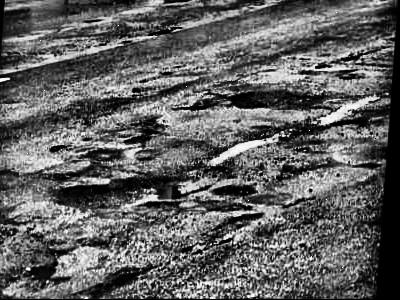pothole: (58, 160, 238, 213), (228, 88, 328, 112), (75, 266, 149, 298), (11, 260, 77, 295)
